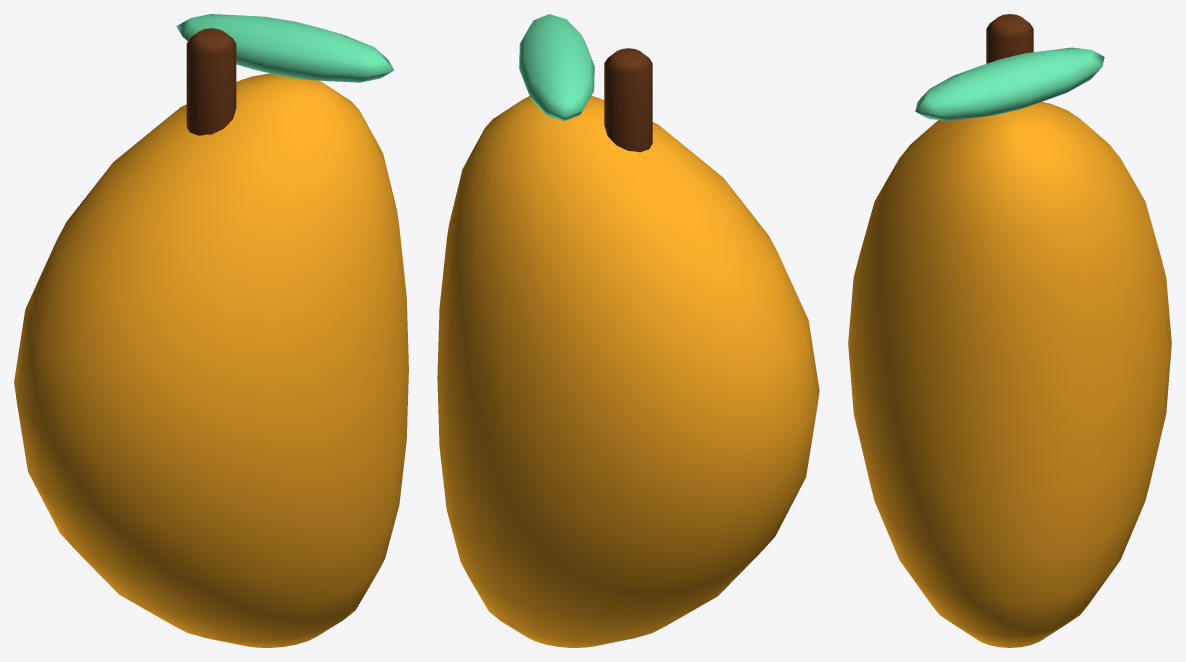
Rendered from mango.glb.
3 views of the same model, side by side, from view 1: azimuth 30°, elevation 25°; view 2: azimuth 150°, elevation 25°; view 3: azimuth 270°, elevation 25° (orthographic). The views are drawn at different scales.
Visible parts, largest first — view 1: mango; view 2: mango; view 3: mango.
Part boxes in pixels (x1,y1,x2,y2): mango: (14,14,408,647); mango: (437,14,819,647); mango: (848,14,1171,647).
Size of the model in its own units: 0.6042 by 1 by 0.5.
Materials: 1 (1 with a texture image).
